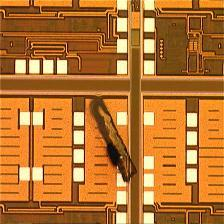PARTICLE: (87, 95, 139, 185)
